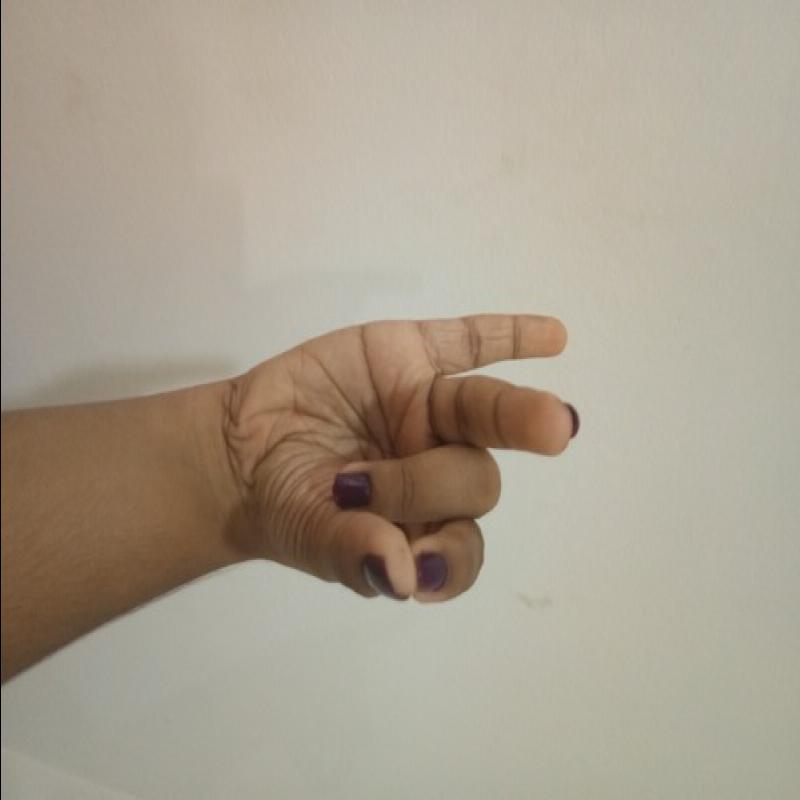Katakam: (222, 288, 601, 618)
